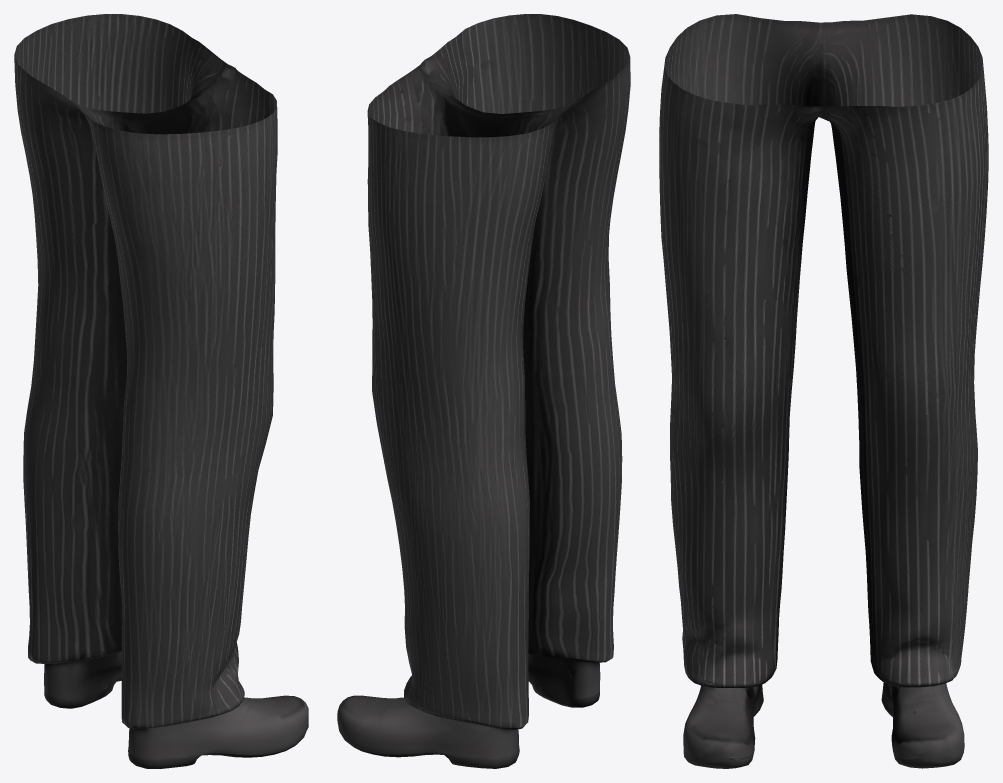
3 views of the same model, side by side, from view 1: azimuth 30°, elevation 25°; view 2: azimuth 150°, elevation 25°; view 3: azimuth 270°, elevation 25° (orthographic). The views are drawn at different scales.
Size of the model in its own units: 0.314 by 0.9995 by 0.4458.
Materials: 1 (1 with a texture image).
